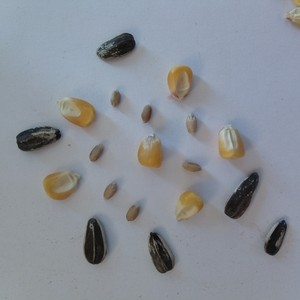girasol: (222, 169, 263, 222), (142, 227, 175, 275), (80, 216, 108, 266), (14, 124, 60, 154), (95, 30, 138, 62), (260, 217, 290, 259)
maiz: (40, 166, 84, 205), (54, 94, 97, 129), (162, 62, 194, 101), (172, 188, 206, 224), (216, 123, 245, 165), (134, 133, 164, 170)
trigo: (86, 140, 106, 164), (101, 179, 120, 203), (137, 102, 155, 125), (179, 159, 203, 175), (124, 200, 140, 224), (184, 112, 199, 136), (108, 88, 124, 110)
